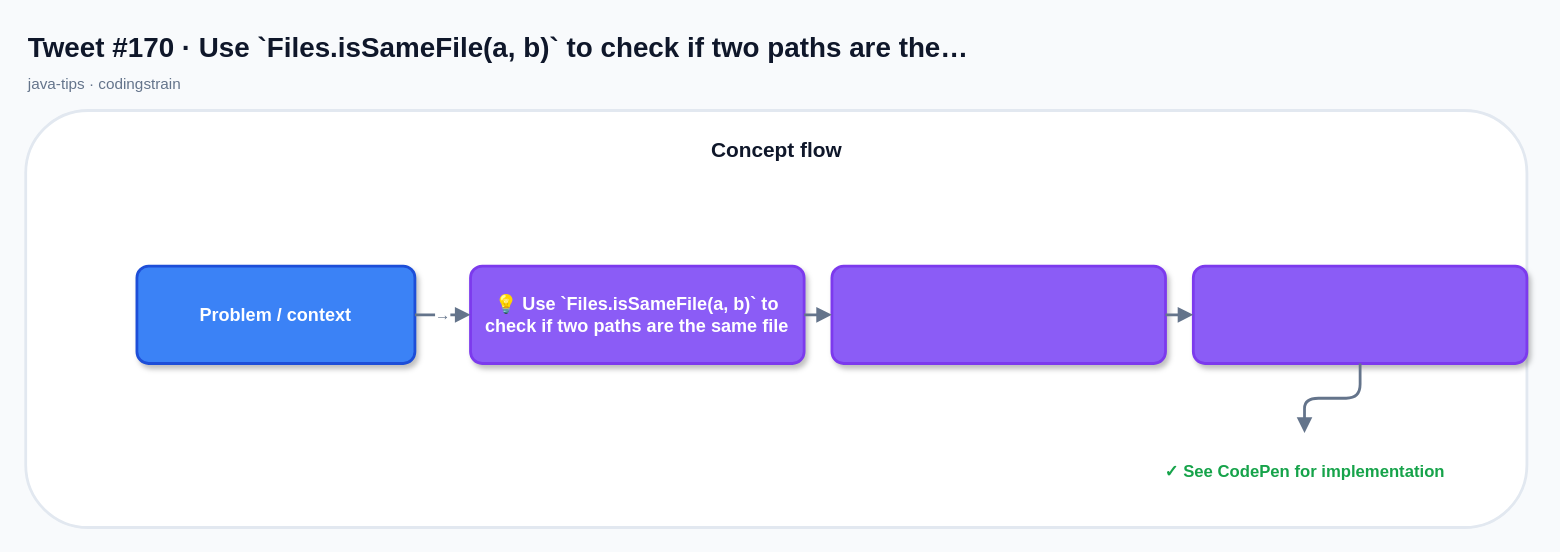
The diagram is 1560 pixels wide and 552 high, and some of its shapes have lost their labels. The shapes that lost their labels are listed below. From the top down, each one's centre as x and y in pixels, then its label:
[999,316]: `Path.equals` only compares path text
[1361,316]: `isSameFile` checks the real file (follows symlinks)
